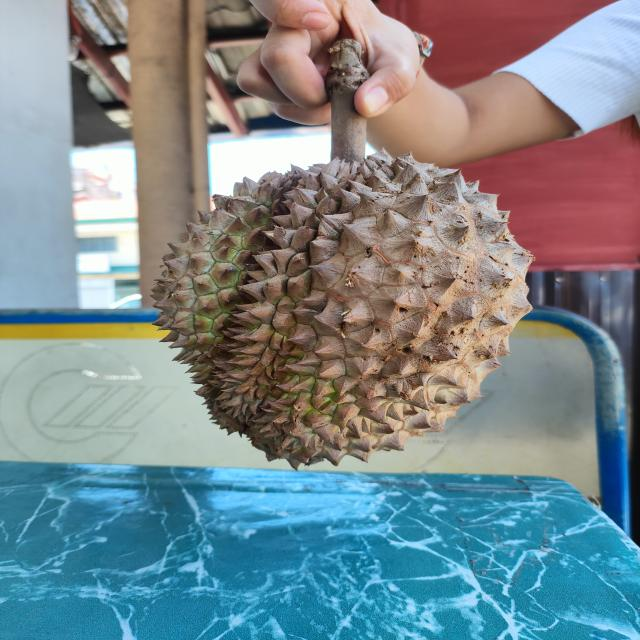mature: (142, 147, 532, 472)
